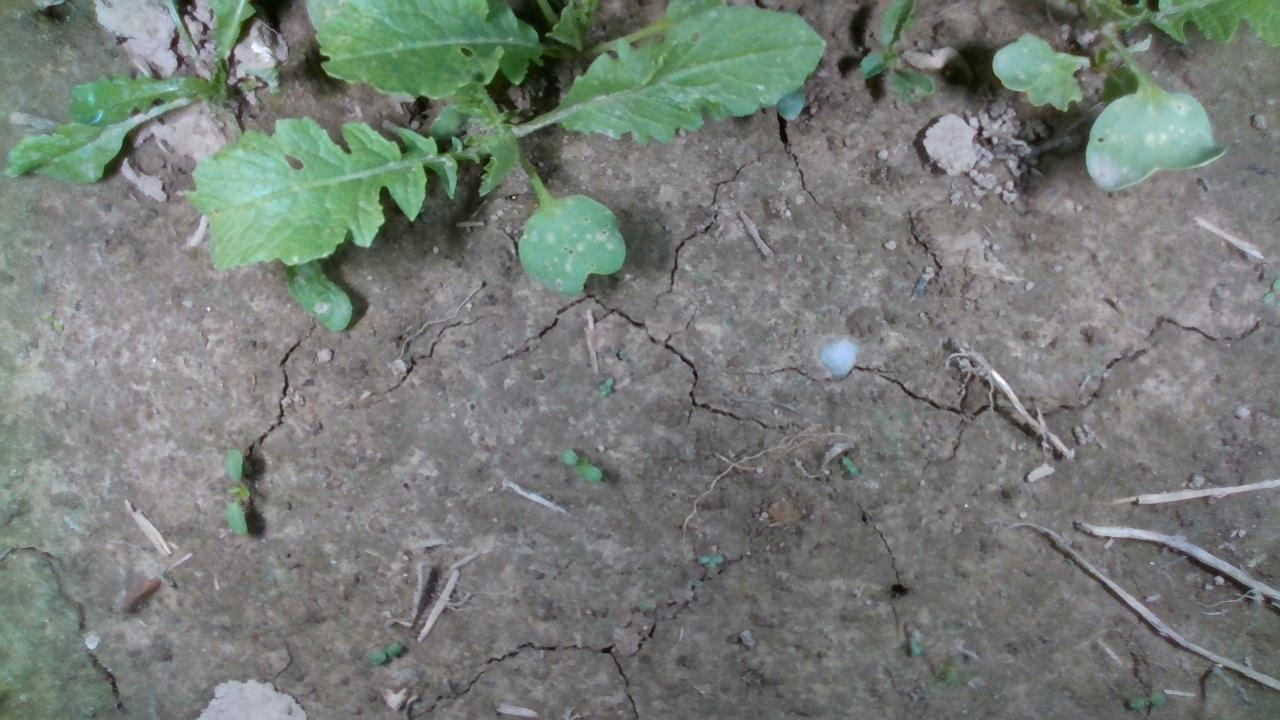weed: (221, 448, 251, 536), (553, 446, 607, 485)
